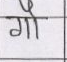ai_matra: (19, 0, 39, 16)
